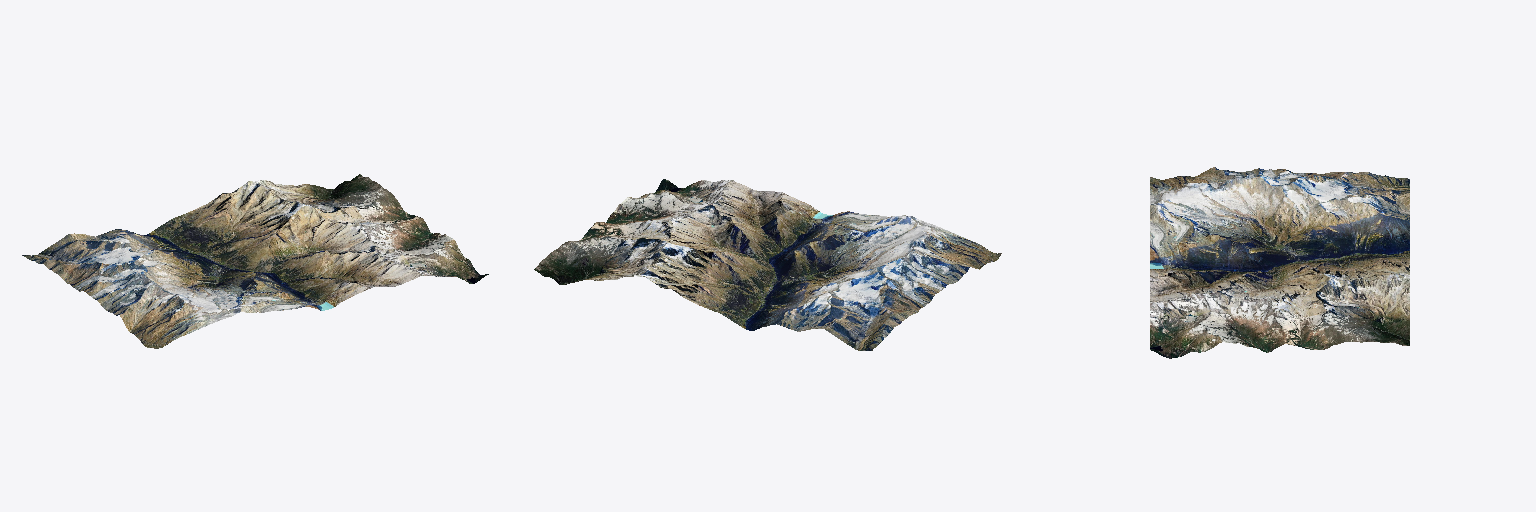
3 renders of one model, left to right at view 1: azimuth 30°, elevation 25°; view 2: azimuth 150°, elevation 25°; view 3: azimuth 270°, elevation 25°, orthographic.
Visible parts, largest first — view 1: EXPORT_GOOGLE_SAT_WM.032; view 2: EXPORT_GOOGLE_SAT_WM.032; view 3: EXPORT_GOOGLE_SAT_WM.032.
Part boxes in pixels (x1,y1,x2,y2): EXPORT_GOOGLE_SAT_WM.032: (22,174,488,348); EXPORT_GOOGLE_SAT_WM.032: (534,179,1001,350); EXPORT_GOOGLE_SAT_WM.032: (1150,167,1409,358).
Size of the model in its own units: 36498 by 4134 by 24332.
1 materials, 1 textured.